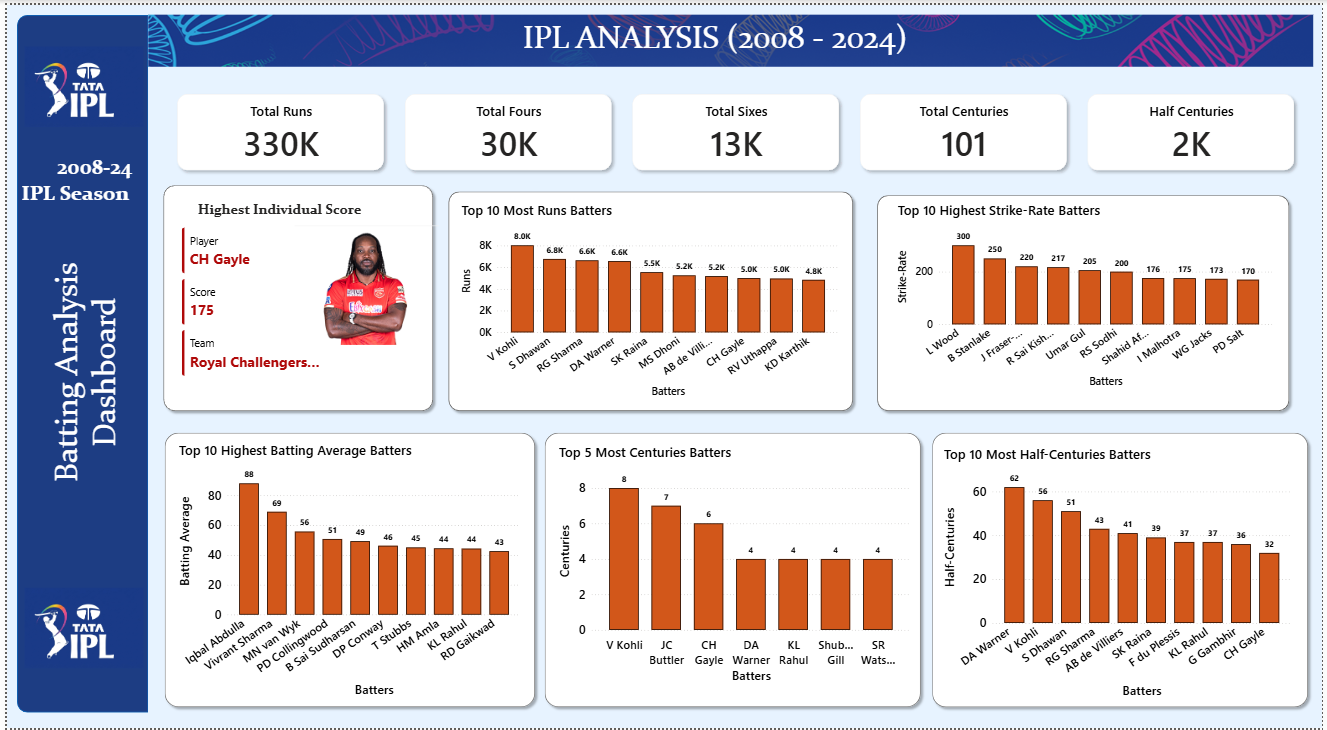

This screenshot's page, from the dashboard's own definition file:
{"tool":"powerbi","page":{"name":"Batting Analysis Dashboard","canvas":[2000,1100],"ordinal":1},"visuals":[{"type":"shape","box":[1398.8,642.4,587.3,433.3],"z":0},{"type":"shape","box":[810.5,643.2,587.5,433.1],"z":1000},{"type":"shape","box":[231.6,643.2,578.9,433.1],"z":2000},{"type":"shape","box":[1315.1,281.3,642.4,344],"z":3000},{"type":"shape","box":[663.3,275.6,631,349.7],"z":4000},{"type":"shape","box":[15.2,15.2,199.6,1060.5],"z":5000},{"type":"shape","box":[230,266.1,425.7,359.2],"z":6000},{"type":"image","box":[214.8,1.9,1771.3,104.5],"z":7000},{"type":"textbox","box":[779.2,15.2,600.6,76],"z":8000},{"type":"cardVisual","fields":{"Data":["ipl_analysis deliveries.Runs","ipl_analysis deliveries.Fours","ipl_analysis deliveries.Sixes","ipl_analysis deliveries.Centuries","ipl_analysis deliveries.Half Centuries"]},"box":[230,106.4,1756.1,174.8],"z":9000},{"type":"cardVisual","fields":{"Data":["ipl_analysis deliveries.Highest Score Player","ipl_analysis deliveries.Highest Individual Score","ipl_analysis deliveries.Highest Score Team"]},"box":[249,321.2,258.5,260.4],"z":10000},{"type":"textbox","box":[285.1,292.7,262.3,43.7],"z":11000},{"type":"cardVisual","fields":{"Data":["ipl_analysis deliveries.Highest Score Player Image"]},"box":[420,136.8,254.7,397.2],"z":12000},{"type":"shape","box":[36.1,326.9,165.3,463.7],"z":13000},{"type":"image","box":[26.6,55.1,180.5,138.7],"z":14000},{"type":"image","box":[26.6,878,180.5,138.7],"z":15000},{"type":"textbox","box":[17.1,222.4,231.9,104.5],"z":16000},{"type":"columnChart","title":"Top 10 Most Runs Batters","fields":{"Category":["ipl_analysis deliveries.batter"],"Y":["ipl_analysis deliveries.Scores"]},"box":[686.1,298.4,583.5,304.1],"z":17000},{"type":"columnChart","title":"Top 10 Highest Strike-Rate Batters","fields":{"Category":["ipl_analysis deliveries.batter"],"Y":["ipl_analysis deliveries.SR"]},"box":[1349.4,298.4,579.7,288.9],"z":18000},{"type":"columnChart","title":"Top 10 Highest Batting Average Batters","fields":{"Category":["ipl_analysis deliveries.batter"],"Y":["ipl_analysis deliveries.Batting Average"]},"box":[257.3,662.5,529.6,394.5],"z":19000},{"type":"columnChart","title":"Top 5 Most Centuries Batters","fields":{"Category":["ipl_analysis deliveries.batter"],"Y":["ipl_analysis deliveries.Centuries"]},"box":[834.1,664.7,544.6,370.9],"z":20000},{"type":"columnChart","title":"Top 10 Most Half-Centuries Batters","fields":{"Category":["ipl_analysis deliveries.batter"],"Y":["ipl_analysis deliveries.Fifties"]},"box":[1419.7,669,537.8,389.6],"z":21000}]}

Visuals, with their boxes in screenshot pixels (x1, y1, x2, y2), scaled from the page's 2000x1100 canvas onto the 1327x730 screenshot:
shape: [left=928, top=426, right=1318, bottom=714]
shape: [left=538, top=427, right=928, bottom=714]
shape: [left=154, top=427, right=538, bottom=714]
shape: [left=873, top=187, right=1299, bottom=415]
shape: [left=440, top=183, right=859, bottom=415]
shape: [left=10, top=10, right=143, bottom=714]
shape: [left=153, top=177, right=435, bottom=415]
image: [left=143, top=1, right=1318, bottom=71]
textbox: [left=517, top=10, right=915, bottom=61]
cardVisual - ipl_analysis deliveries.Runs x ipl_analysis deliveries.Fours: [left=153, top=71, right=1318, bottom=187]
cardVisual - ipl_analysis deliveries.Highest Score Player x ipl_analysis deliveries.Highest Individual Score: [left=165, top=213, right=337, bottom=386]
textbox: [left=189, top=194, right=363, bottom=223]
cardVisual - ipl_analysis deliveries.Highest Score Player Image: [left=279, top=91, right=448, bottom=354]
shape: [left=24, top=217, right=134, bottom=525]
image: [left=18, top=37, right=137, bottom=129]
image: [left=18, top=583, right=137, bottom=675]
textbox: [left=11, top=148, right=165, bottom=217]
"Top 10 Most Runs Batters" columnChart: [left=455, top=198, right=842, bottom=400]
"Top 10 Highest Strike-Rate Batters" columnChart: [left=895, top=198, right=1280, bottom=390]
"Top 10 Highest Batting Average Batters" columnChart: [left=171, top=440, right=522, bottom=701]
"Top 5 Most Centuries Batters" columnChart: [left=553, top=441, right=915, bottom=687]
"Top 10 Most Half-Centuries Batters" columnChart: [left=942, top=444, right=1299, bottom=703]
